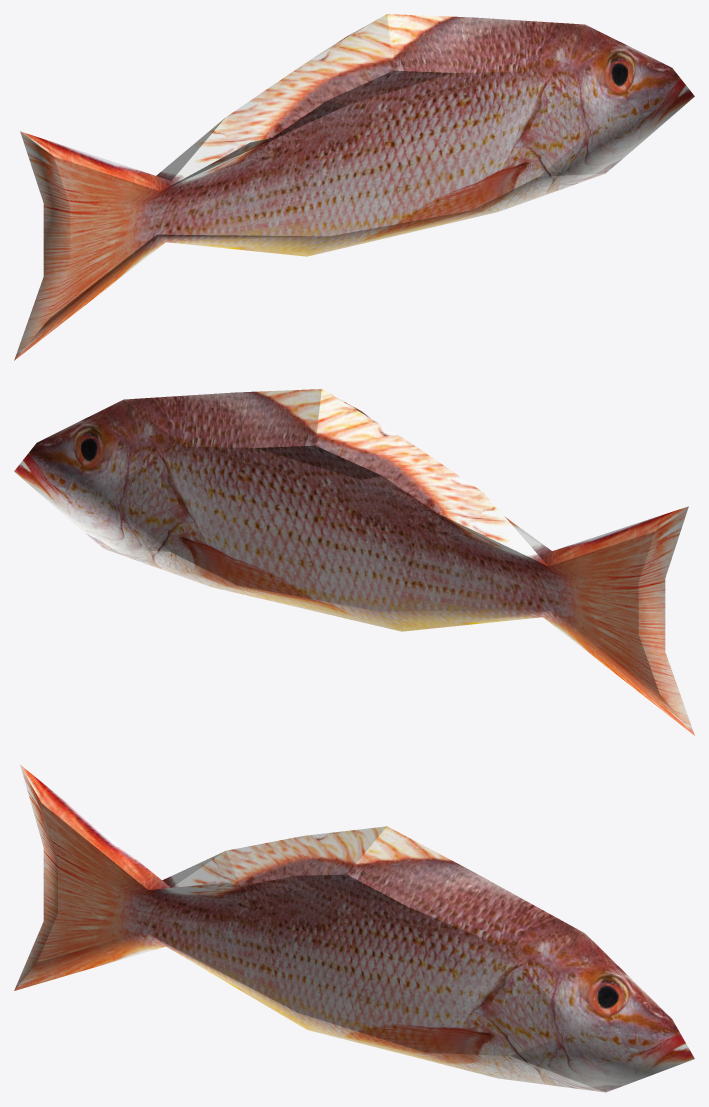
Rendered from fish.FBX.
3 views of the same model, one above another, from view 1: azimuth 30°, elevation 25°; view 2: azimuth 150°, elevation 25°; view 3: azimuth 330°, elevation 25° (orthographic).
Parts seen in each view (by area): view 1: Box001; view 2: Box001; view 3: Box001.
Boxes of the visible parts, left/top/right/bottom form: Box001: left=14, top=14, right=694, bottom=360; Box001: left=14, top=389, right=694, bottom=735; Box001: left=14, top=765, right=694, bottom=1092.
Bounding box in the file's own units: 82.59 × 29.65 × 9.79.
